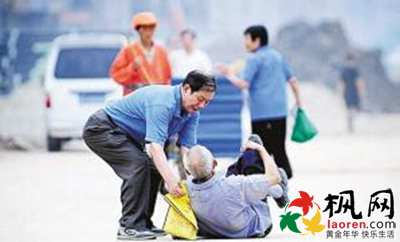fall: (167, 130, 306, 238)
